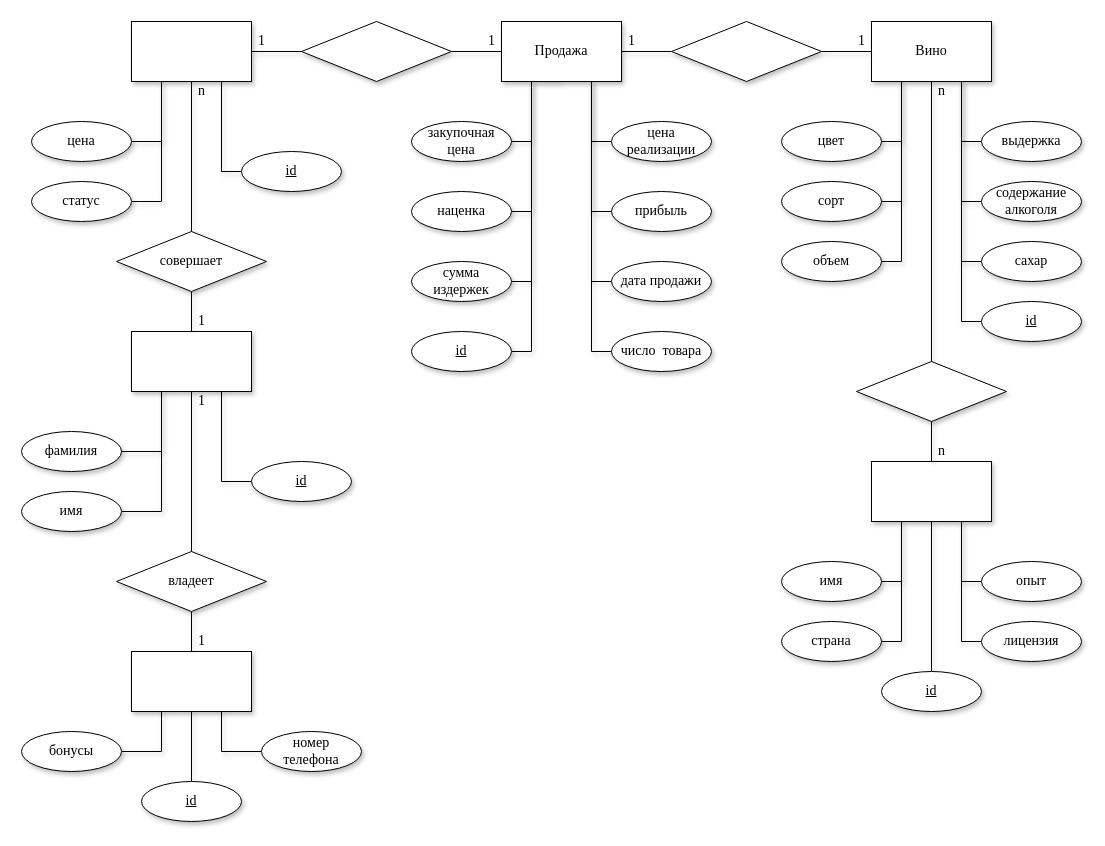
Some shapes in this 1105 by 846 pixel diagram are drawn without their labels. Here are the shapes that lost their labels. From the top down, the centre of each, then its label:
the point at 192,52: Покупка
the point at 377,52: подразумевает
the point at 747,52: включает
the point at 192,362: Покупатель
the point at 932,392: продает
the point at 932,492: Поставщик
the point at 192,682: Бонусная карта
